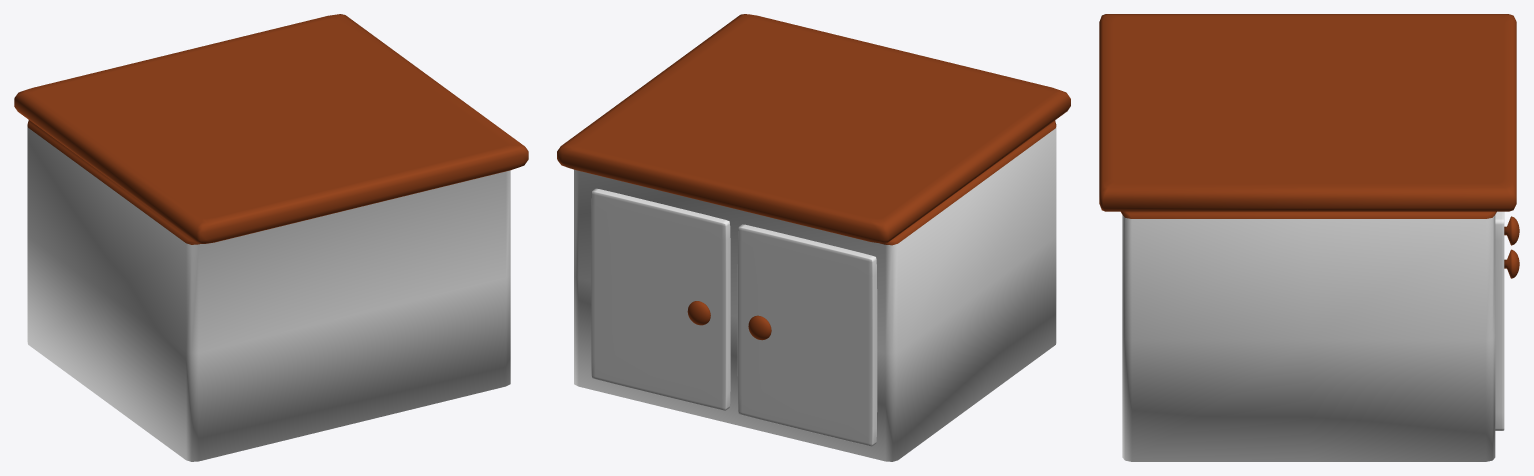
Rendered from resizedtallbench.glb.
The picture shows the model from 3 angles, left to right: view 1: azimuth 30°, elevation 25°; view 2: azimuth 150°, elevation 25°; view 3: azimuth 270°, elevation 25°; orthographic projection. The views are drawn at different scales.
Parts seen in each view (by area): view 1: Cube.004; view 2: Cube.004; view 3: Cube.004.
Part boxes in pixels (bbox=[...]): Cube.004: bbox=[14, 14, 528, 461]; Cube.004: bbox=[557, 14, 1070, 461]; Cube.004: bbox=[1099, 14, 1519, 461].
Size of the model in its own units: 3.07 by 2.16 by 3.01.
